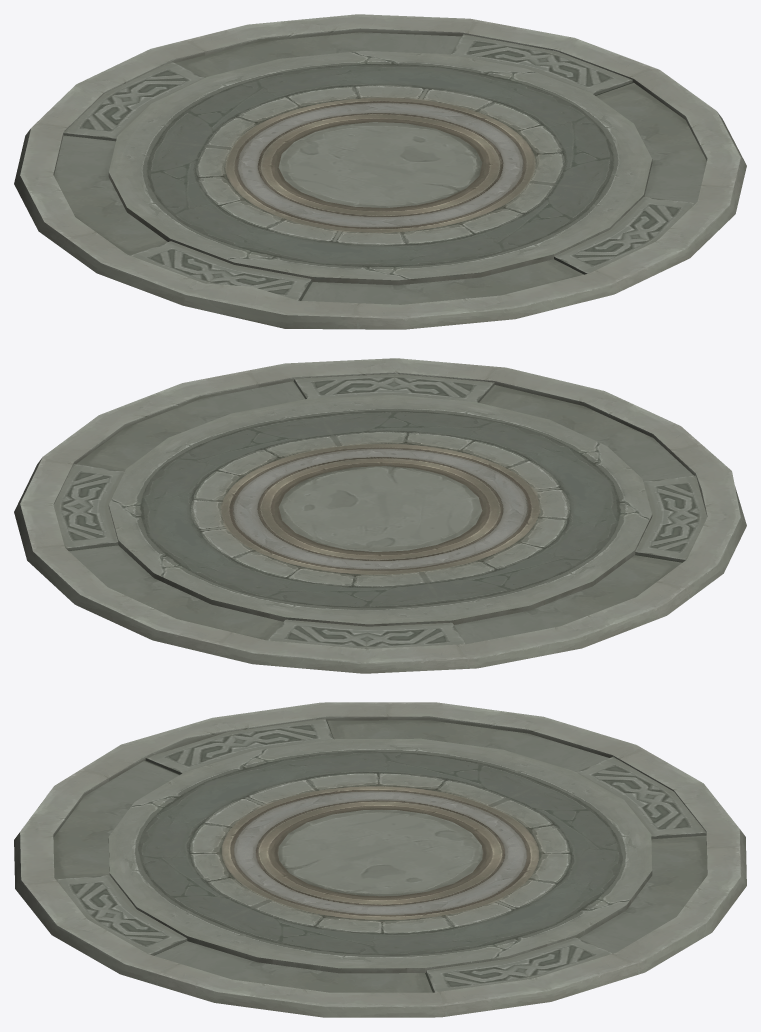
The model's file is taoyuanzhen_yuantai01.FBX.
The picture shows the model from 3 angles, top to bottom: view 1: azimuth 30°, elevation 25°; view 2: azimuth 150°, elevation 25°; view 3: azimuth 270°, elevation 25°; orthographic projection.
Parts seen in each view (by area): view 1: fb_arpgceshi_caoditaizi001; view 2: fb_arpgceshi_caoditaizi001; view 3: fb_arpgceshi_caoditaizi001.
Boxes of the visible parts, x1,y1,x2,y2 form: fb_arpgceshi_caoditaizi001: (14, 14, 746, 329); fb_arpgceshi_caoditaizi001: (14, 358, 746, 673); fb_arpgceshi_caoditaizi001: (14, 702, 746, 1017).
Bounding box in the file's own units: 1581 × 61.5 × 1582.
